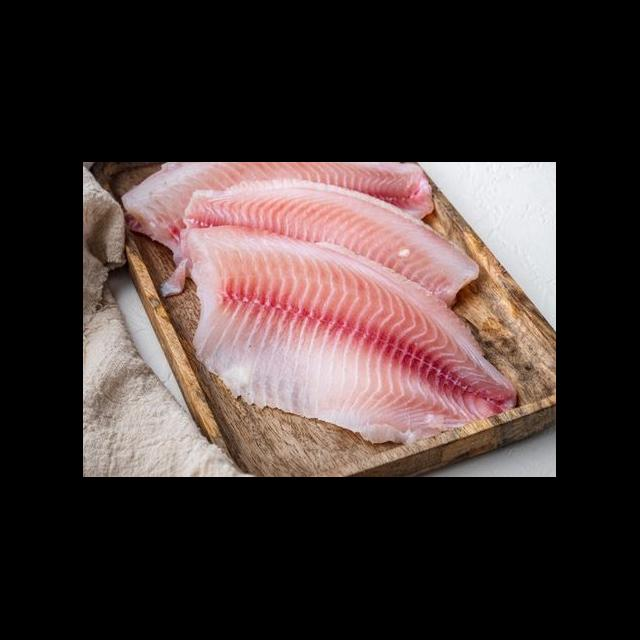fish: (181, 223, 527, 454)
